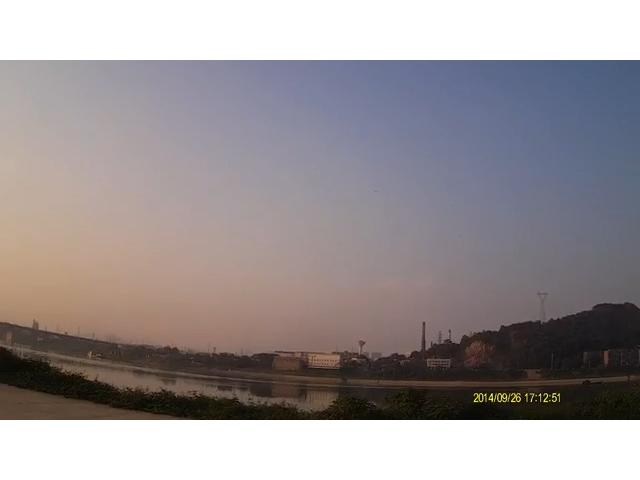Anti-Drone: (369, 185, 385, 199)
